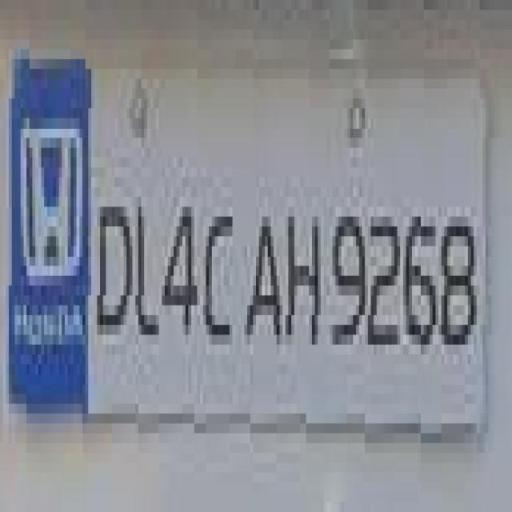number plate: (23, 30, 512, 443)
